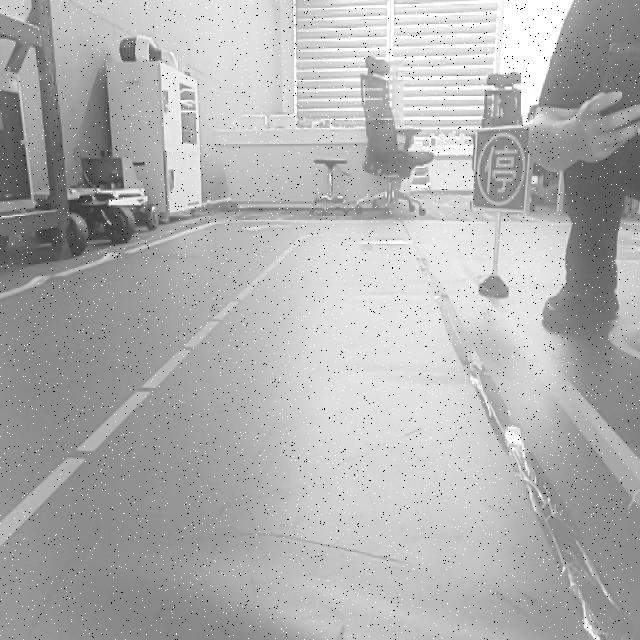left_lane: (2, 243, 298, 545)
right_lane: (457, 263, 638, 506)
